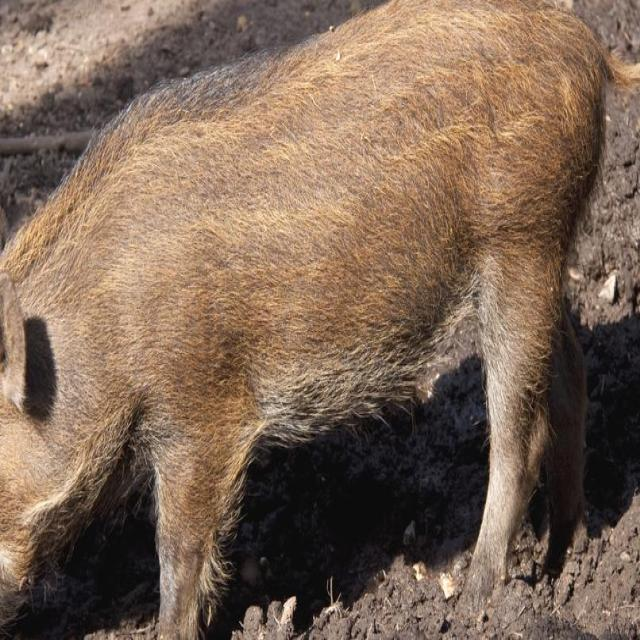pig: (0, 4, 640, 638)
